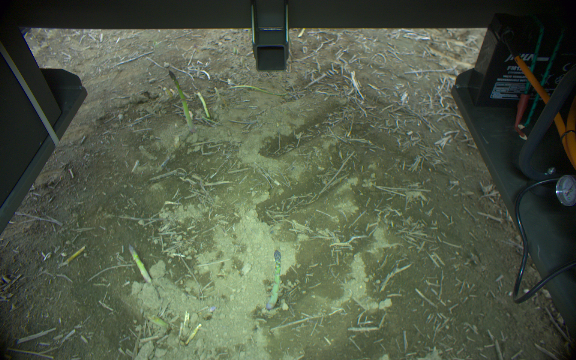aspa: (166, 69, 193, 129), (127, 242, 152, 286), (267, 248, 283, 313), (228, 83, 287, 99), (193, 89, 211, 121), (144, 310, 168, 330)
